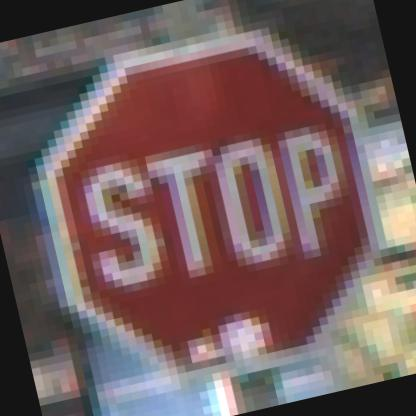stop: (13, 3, 402, 402)
